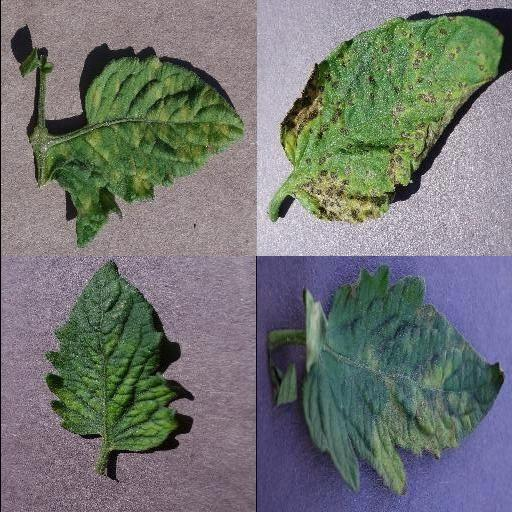Leaf Mold: (302, 264, 506, 494), (45, 55, 245, 250)
Mosaic Virus: (41, 257, 179, 453)
Septoria: (279, 15, 505, 223)
